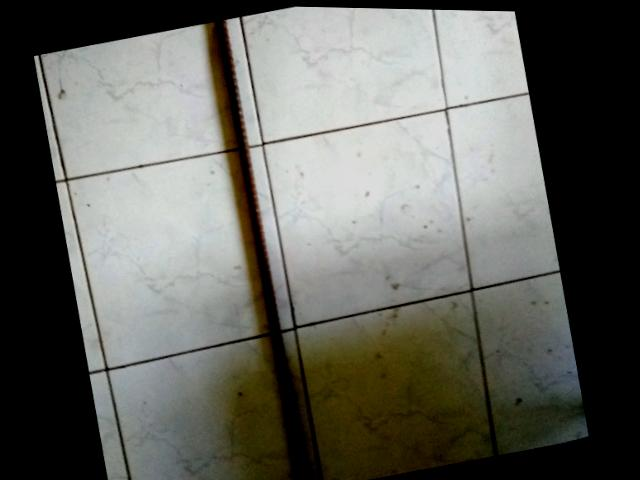crow bar: (202, 16, 325, 480)
